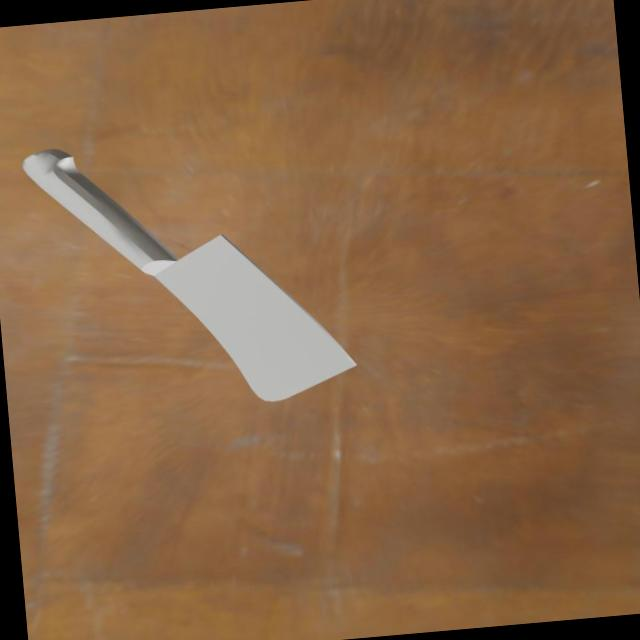knife: (7, 130, 174, 284)
